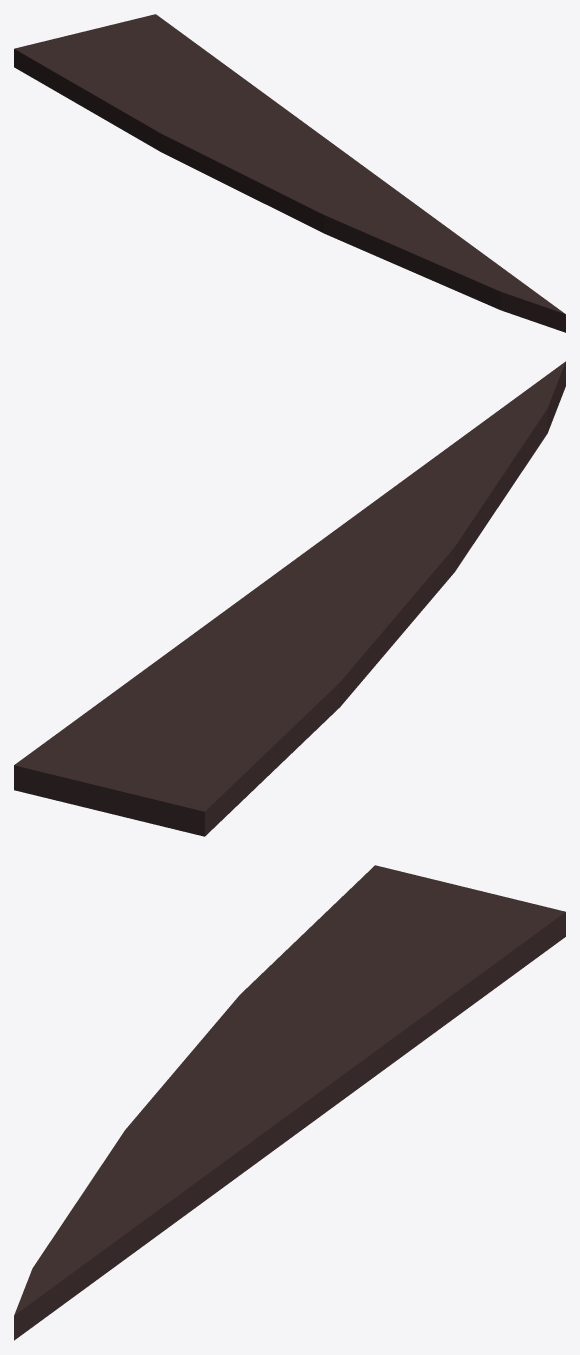
Rendered from SW_ENV_EL_TrackBase_Walkway_SingleToDouble_Central_Collision.fbx.
3 renders of one model, top to bottom at view 1: azimuth 30°, elevation 25°; view 2: azimuth 150°, elevation 25°; view 3: azimuth 330°, elevation 25°, orthographic. The views are drawn at different scales.
Visible parts, largest first — view 1: SW_ENV_EL_TrackBase_Walkway_SingleToDouble_Central_Collision; view 2: SW_ENV_EL_TrackBase_Walkway_SingleToDouble_Central_Collision; view 3: SW_ENV_EL_TrackBase_Walkway_SingleToDouble_Central_Collision.
Boxes of the visible parts, x1,y1,x2,y2 form: SW_ENV_EL_TrackBase_Walkway_SingleToDouble_Central_Collision: [14, 14, 565, 332]; SW_ENV_EL_TrackBase_Walkway_SingleToDouble_Central_Collision: [14, 361, 565, 836]; SW_ENV_EL_TrackBase_Walkway_SingleToDouble_Central_Collision: [14, 865, 565, 1340].
Size of the model in its own units: 160 by 20 by 802.
